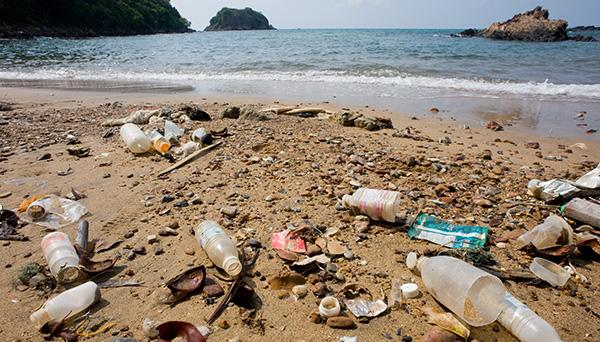litter: (400, 251, 511, 330), (28, 282, 121, 339), (13, 187, 100, 232), (179, 219, 246, 276), (510, 210, 595, 253), (149, 116, 227, 157), (343, 181, 401, 229), (395, 217, 494, 245), (36, 233, 88, 282), (521, 165, 600, 196), (522, 251, 574, 286), (266, 225, 319, 253), (564, 195, 600, 226), (311, 293, 347, 320), (117, 125, 148, 155)
